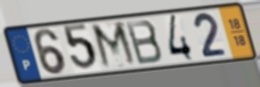2: (192, 11, 231, 61)
4: (165, 13, 196, 63)
5: (60, 22, 100, 74)
6: (32, 27, 68, 77)
B: (123, 18, 165, 67)
M: (89, 20, 141, 72)
